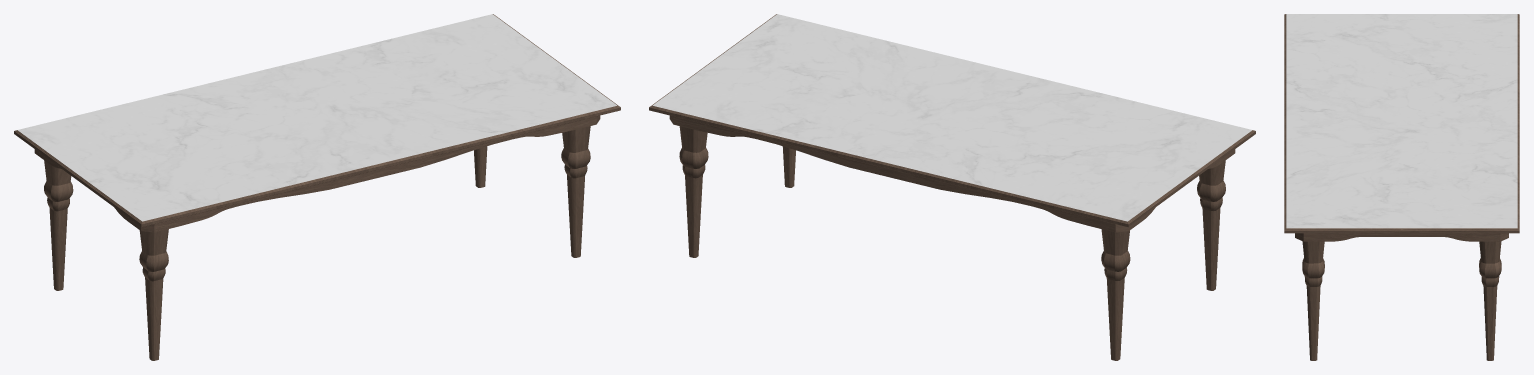
File: D_Desk_201.fbx
The picture shows the model from 3 angles, left to right: view 1: azimuth 30°, elevation 25°; view 2: azimuth 150°, elevation 25°; view 3: azimuth 270°, elevation 25°; orthographic projection. The views are drawn at different scales.
Visible parts, largest first — view 1: D_Desk_201; view 2: D_Desk_201; view 3: D_Desk_201.
Boxes of the visible parts, x1=… form: D_Desk_201: x1=14, y1=14, x2=620, y2=360; D_Desk_201: x1=649, y1=14, x2=1255, y2=360; D_Desk_201: x1=1284, y1=14, x2=1519, y2=360.
Size of the model in its own units: 2.59 by 0.8 by 1.19.
